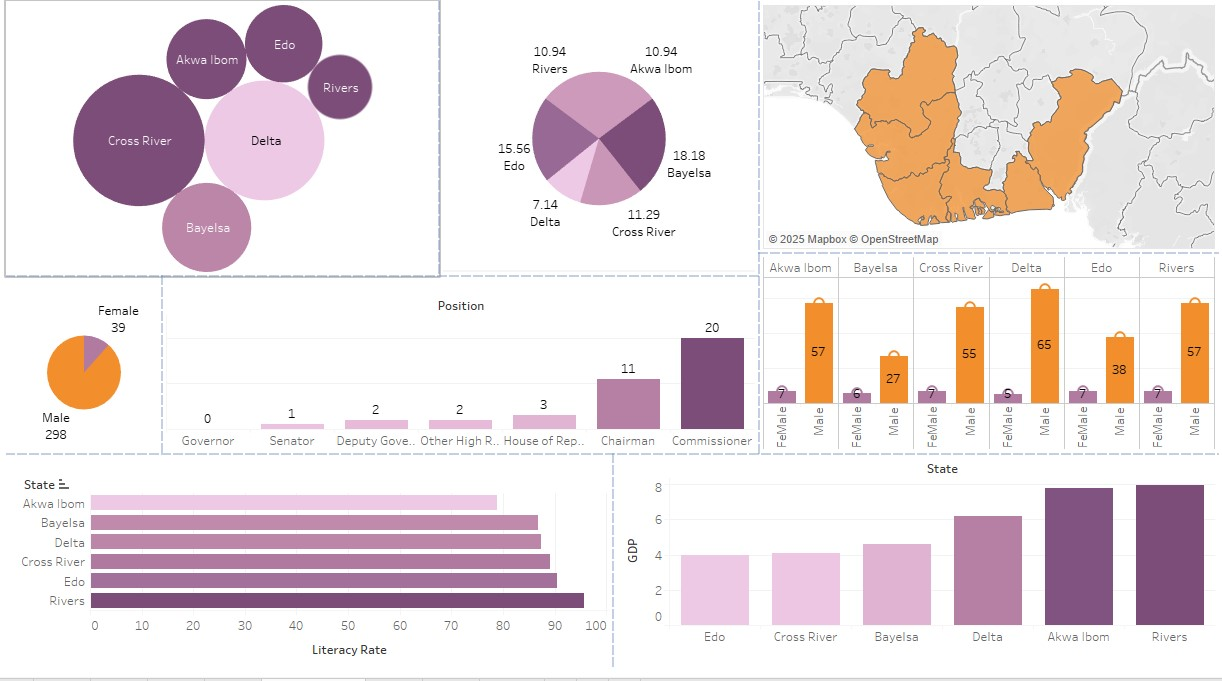

The dashboard page shown, as its layout file describes it:
{"tool":"tableau","page":{"name":"Dashboard 1","canvas":[1000,1000],"units":"permille","ordinal":0},"visuals":[{"type":"worksheet","title":"Sheet 3","mark":"Circle","box":[5.8,11.7,311.7,421.1]},{"type":"worksheet","title":"Sheet 10","mark":"Pie","box":[317.5,11.7,230.4,421.1]},{"type":"worksheet","title":"Sheet 1","mark":"Multipolygon","box":[547.9,11.7,331.2,368.4]},{"type":"legend","title":"Sheet 3","param":"[federated.08116fx18rtmct1at5y5x0hr40ee].[sum:Education Budget:qk]","box":[879.1,11.7,115.2,95]},{"type":"legend","title":"Sheet 4","param":"[federated.08116fx18rtmct1at5y5x0hr40ee].[sum:Literacy Rate:qk]","box":[879.1,106.7,115.2,95]},{"type":"legend","title":"Sheet 6","param":"[federated.0gfora10geedgl11j508p10r3gg1].[sum:FemaleCount:qk]","box":[879.1,201.8,115.2,95]},{"type":"legend","title":"Sheet 7","param":"[federated.0kod68m0xm61na1a82hbs1inpd27].[none:Gender:nk]","box":[879.1,296.8,115.2,96.5]},{"type":"worksheet","title":"Sheet 9","mark":"Automatic","rows":["Position","Position"],"cols":["State","Gender"],"box":[547.9,380.1,331.2,339.2]},{"type":"legend","title":"Sheet 7","param":"[federated.0kod68m0xm61na1a82hbs1inpd27].[sum:Count:qk]","box":[879.1,393.3,115.2,67.3]},{"type":"worksheet","title":"Sheet 7","mark":"Pie","box":[5.8,432.8,112.3,286.6]},{"type":"worksheet","title":"Sheet 6","mark":"Automatic","rows":["FemaleCount"],"cols":["Position"],"box":[118.1,432.8,429.8,286.6]},{"type":"legend","title":"Sheet 8","param":"[federated.029ddw40t1ice61a4ssus00pmbpo].[sum:GDP:qk]","box":[879.1,460.6,115.2,95]},{"type":"legend","title":"Sheet 9","param":"[federated.16rs08m17orm7m13d3got15f2jc3].[none:Gender:nk]","box":[879.1,555.6,115.2,96.5]},{"type":"legend","title":"Sheet 10","param":"[federated.06g5kyd0h5o70k12ee9z91xuhvsx].[sum:female_percentage:qk]","box":[879.1,652.1,115.2,67.3]},{"type":"worksheet","title":"Sheet 4","mark":"Automatic","rows":["State"],"cols":["Literacy Rate"],"box":[5.8,719.3,436.7,269]},{"type":"worksheet","title":"Sheet 8","mark":"Automatic","rows":["GDP"],"cols":["State"],"box":[442.4,719.3,436.6,269]},{"type":"legend","title":"Sheet 10","param":"[federated.06g5kyd0h5o70k12ee9z91xuhvsx].[sum:female_percentage:qk]","box":[879.1,719.3,115.2,95]}]}

Visuals, with their boxes on the dashboard's canvas, which has no fixed pixel size, in thousandths of its width and height (x1, y1, x2, y2). These are canvas units, not pixel positions in the 1222x681 screenshot, which may show the page scaled, cropped or inside an application window:
"Sheet 3" worksheet (Circle marks): locate(6, 12, 318, 433)
"Sheet 10" worksheet (Pie marks): locate(318, 12, 548, 433)
"Sheet 1" worksheet (Multipolygon marks): locate(548, 12, 879, 380)
"Sheet 3" legend: locate(879, 12, 994, 107)
"Sheet 4" legend: locate(879, 107, 994, 202)
"Sheet 6" legend: locate(879, 202, 994, 297)
"Sheet 7" legend: locate(879, 297, 994, 393)
"Sheet 9" worksheet: locate(548, 380, 879, 719)
"Sheet 7" legend: locate(879, 393, 994, 461)
"Sheet 7" worksheet (Pie marks): locate(6, 433, 118, 719)
"Sheet 6" worksheet: locate(118, 433, 548, 719)
"Sheet 8" legend: locate(879, 461, 994, 556)
"Sheet 9" legend: locate(879, 556, 994, 652)
"Sheet 10" legend: locate(879, 652, 994, 719)
"Sheet 4" worksheet: locate(6, 719, 442, 988)
"Sheet 8" worksheet: locate(442, 719, 879, 988)
"Sheet 10" legend: locate(879, 719, 994, 814)
